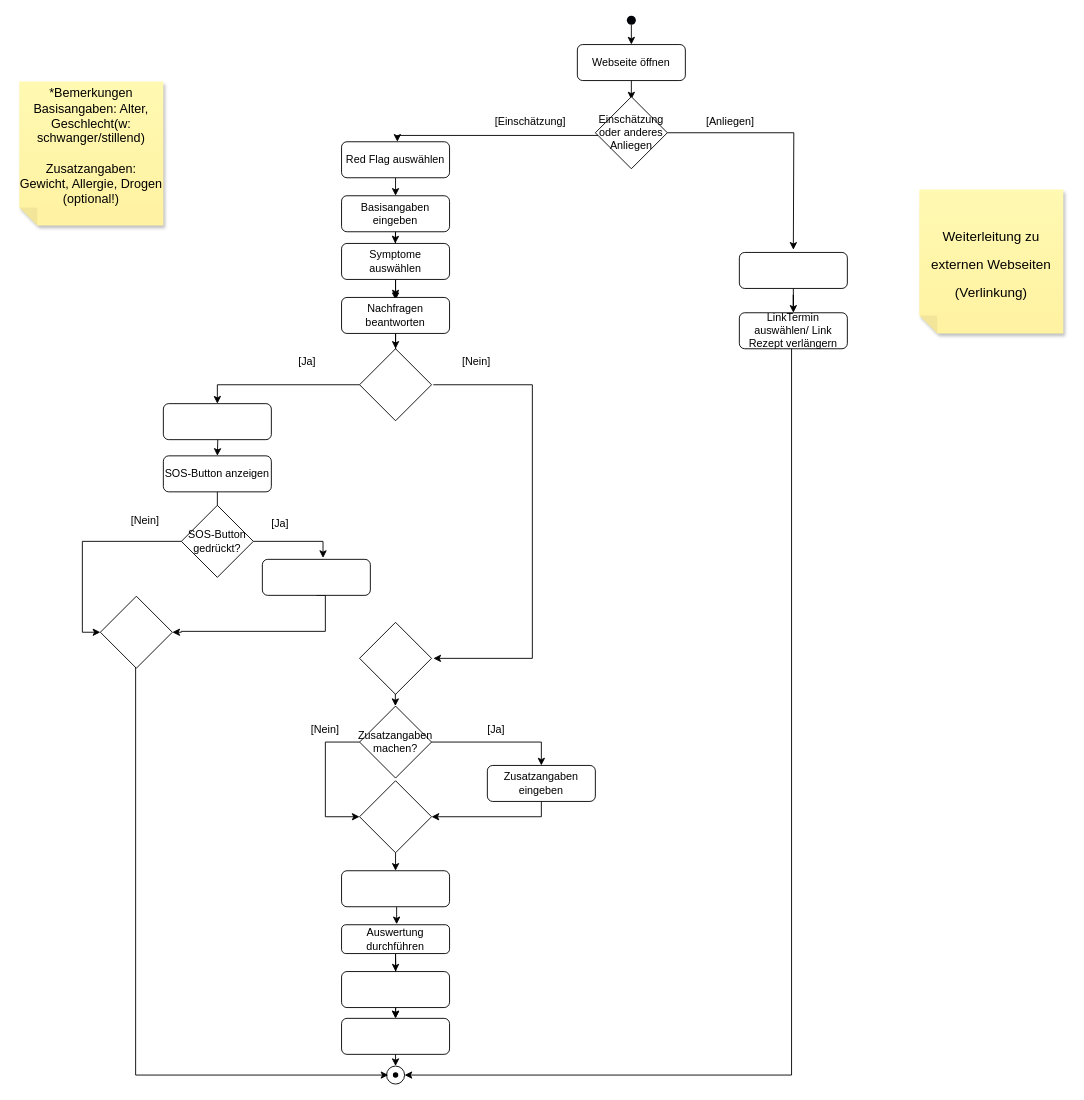
This 1084x1100 diagram has some shape labels left out. The centre of each missing label's shape, as x and y in pixels:
Code ausgeben: the point at 395,1035
Eingaben bestätigen: the point at 395,888
Handlungsempfehlung anzeigen: the point at 395,989
Notfallhinweis anzeigen: the point at 216,421
Notruf einleiten: the point at 315,576
Red Flag erkannt?: the point at 395,384
Termin buchen/Rezept verlängern: the point at 792,270
